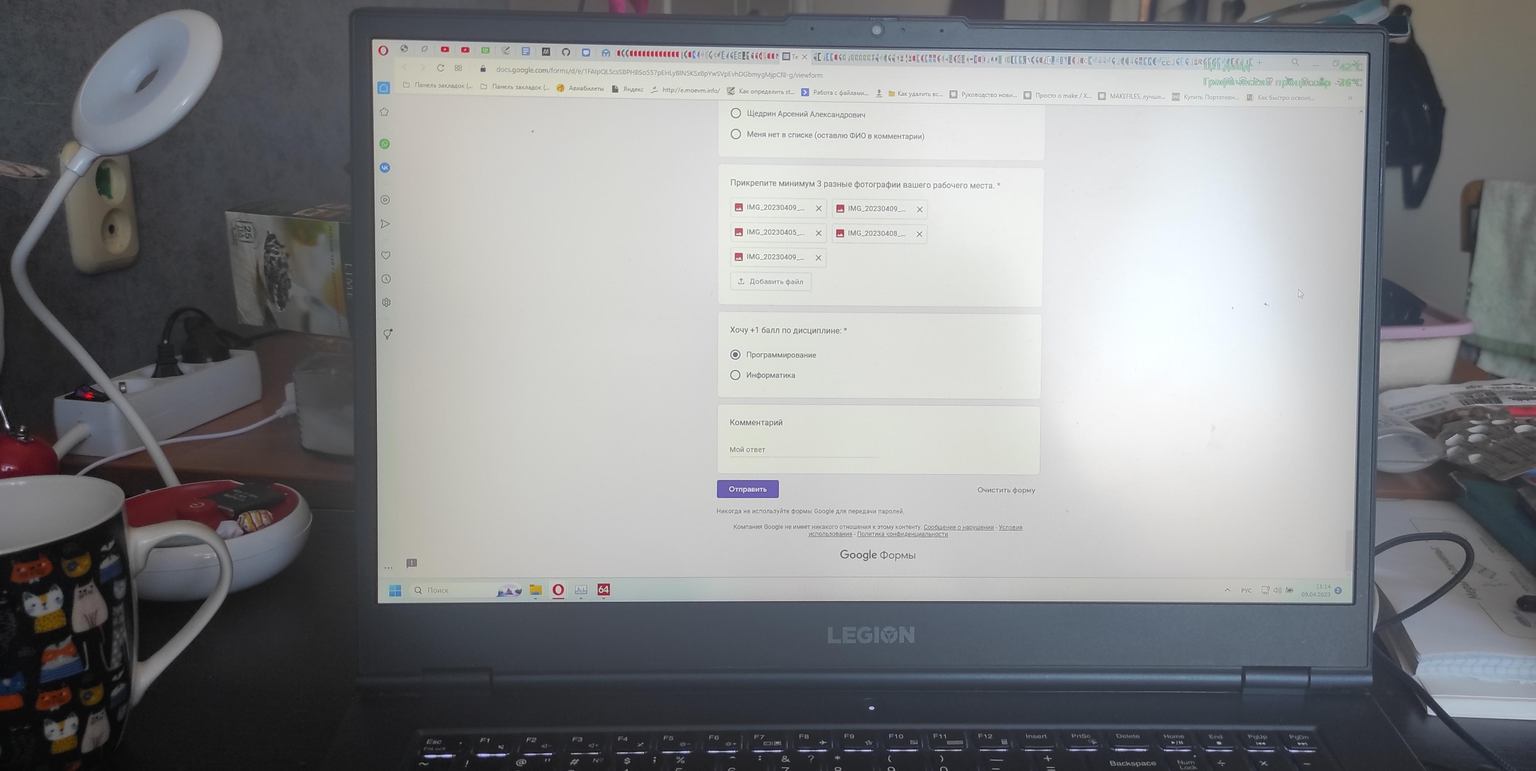monitor: (340, 2, 1396, 698)
